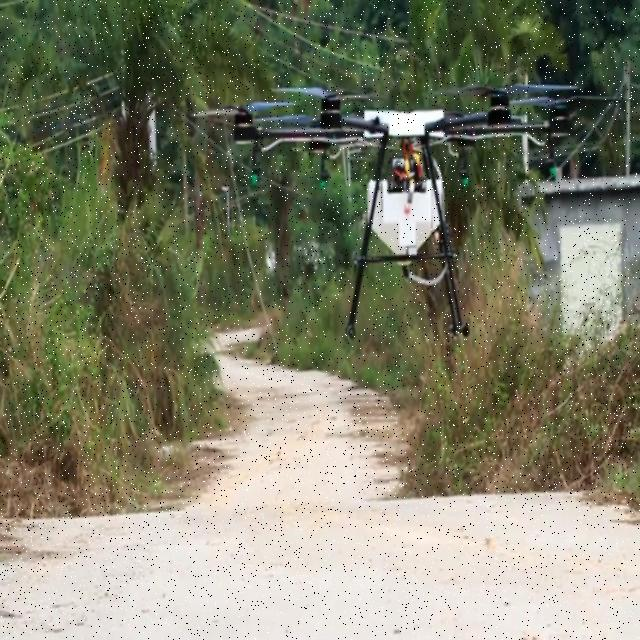UAV: (219, 82, 566, 344)
